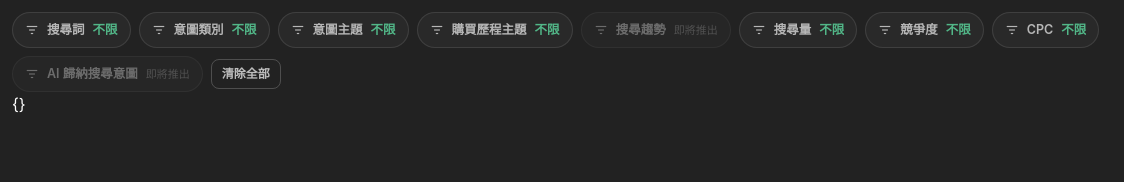
Test case: TC-17 · FilterBar (chips popover → FilterSpec + URL) › seeds a range popover and shows a — bounded label for an open-upper range
Click the button "搜尋量 不限" at {"x": 798, "y": 30}, box [739,12,857,48]
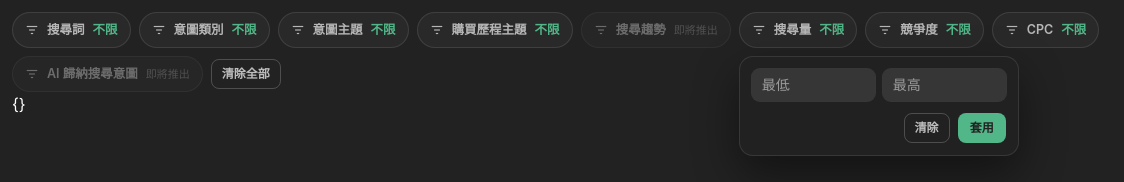
Type "500" into the number field labelled "最高" at {"x": 944, "y": 85}, box [883,69,1006,101]
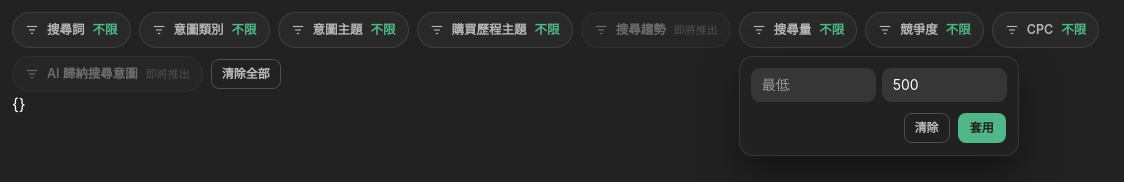
Click the button "套用" at {"x": 982, "y": 128}, box [958,113,1006,143]
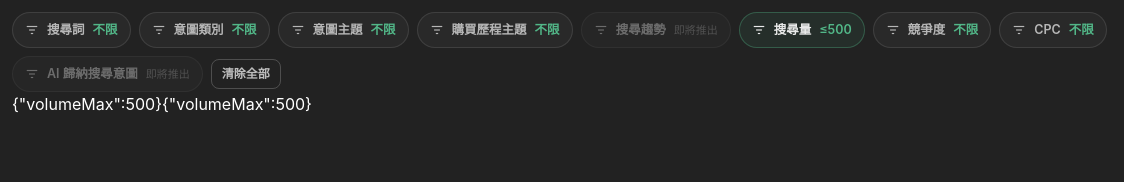
Expected: the button "搜尋量 ≤500" is shown
Click the button "搜尋量 ≤500" at {"x": 802, "y": 30}, box [739,12,865,48]
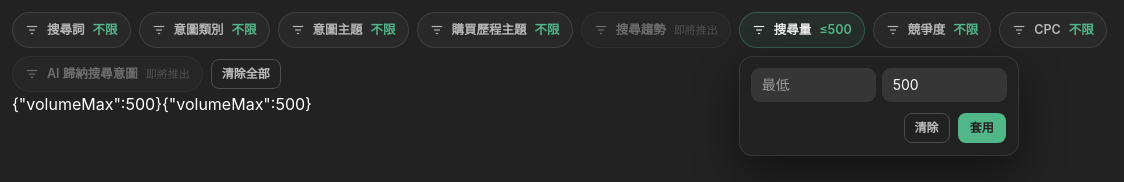
Expected: the number field named "最高" holds "500", [883,69,1006,101]
